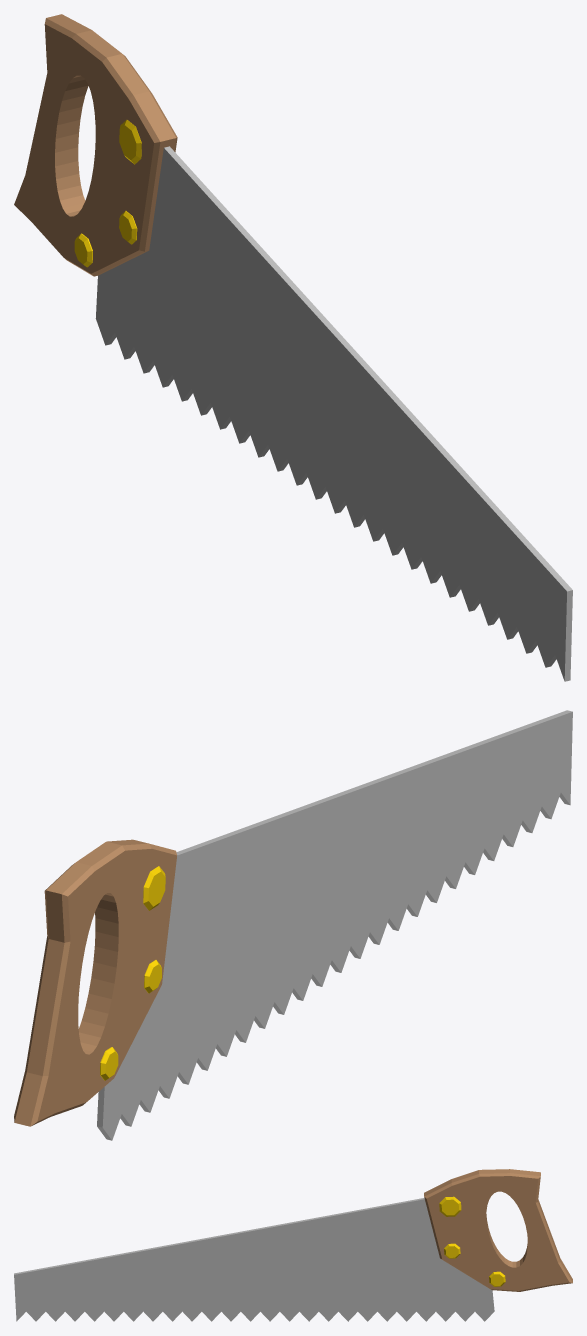
File: Hand Saw.fbx
3 views of the same model, one above another, from view 1: azimuth 30°, elevation 25°; view 2: azimuth 150°, elevation 25°; view 3: azimuth 270°, elevation 25° (orthographic). The views are drawn at different scales.
Parts seen in each view (by area): view 1: Plane; view 2: Plane; view 3: Plane.
Boxes of the visible parts, x1,y1,x2,y2 form: Plane: (14,14,572,681); Plane: (14,710,572,1140); Plane: (14,1169,572,1321).
Size of the model in its own units: 4.06 by 36.49 by 123.
